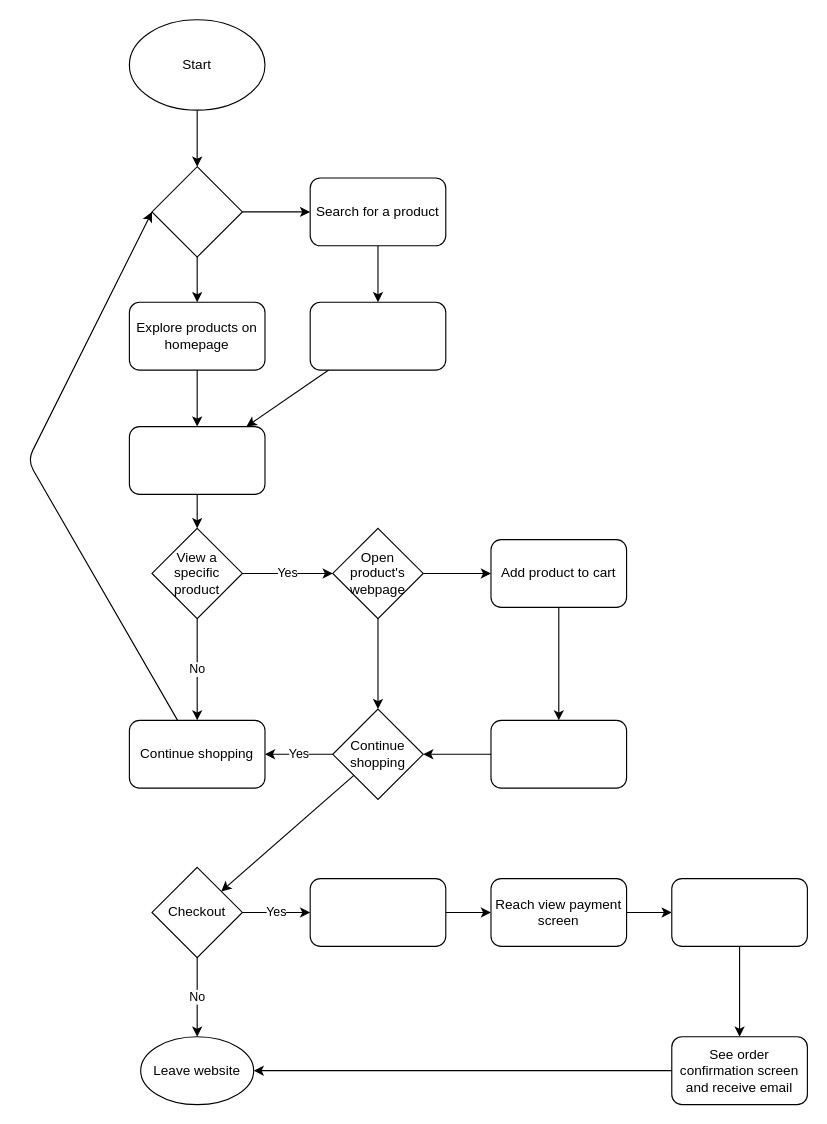
Image size: 827x1124. Some labels were removed from this diagram. The shapes that lost their labels are listed below. From the top down, each one's centre as x and y in pixels, then its label:
point (196, 211): User enters website
point (377, 335): Provide input to the website of their search
point (196, 459): Look over the products
point (558, 753): Receive added to cart confirmation
point (377, 911): Reach view cart screen
point (739, 911): Give input of their payment information
